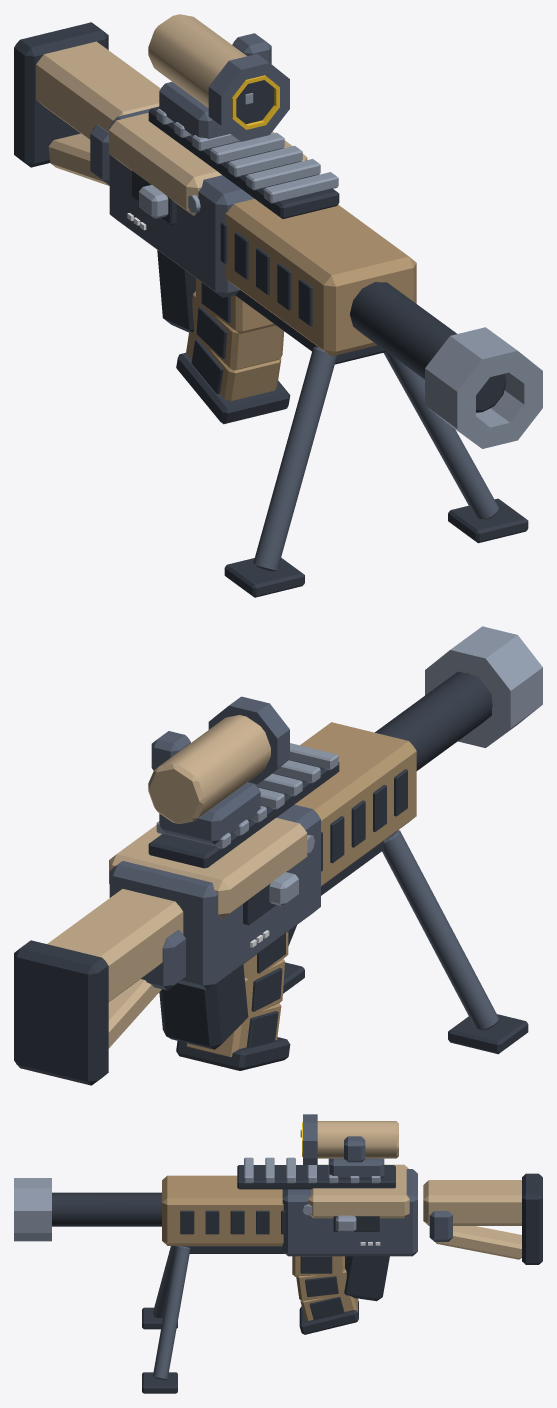
File: Military_SR_v003.fbx
3 renders of one model, top to bottom at view 1: azimuth 30°, elevation 25°; view 2: azimuth 150°, elevation 25°; view 3: azimuth 270°, elevation 25°, orthographic. The views are drawn at different scales.
Visible parts, largest first — view 1: Military_SR__RECEIVER_MESH, Military_SR__BIPOD_MESH, Military_SR__MAGAZINE_MESH; view 2: Military_SR__RECEIVER_MESH, Military_SR__BIPOD_MESH, Military_SR__MAGAZINE_MESH; view 3: Military_SR__RECEIVER_MESH, Military_SR__MAGAZINE_MESH, Military_SR__BIPOD_MESH.
Part boxes in pixels (x1=…): Military_SR__RECEIVER_MESH: x1=14, y1=14, x2=542, y2=448; Military_SR__BIPOD_MESH: x1=224, y1=347, x2=528, y2=597; Military_SR__MAGAZINE_MESH: x1=176, y1=278, x2=290, y2=424; Military_SR__RECEIVER_MESH: x1=14, y1=626, x2=542, y2=1085; Military_SR__BIPOD_MESH: x1=283, y1=830, x2=528, y2=1054; Military_SR__MAGAZINE_MESH: x1=176, y1=931, x2=290, y2=1070; Military_SR__RECEIVER_MESH: x1=14, y1=1114, x2=542, y2=1301; Military_SR__MAGAZINE_MESH: x1=292, y1=1256, x2=358, y2=1334; Military_SR__BIPOD_MESH: x1=142, y1=1246, x2=190, y2=1393.
Bounding box in the file's own units: 0.89 × 1.23 × 2.5.
